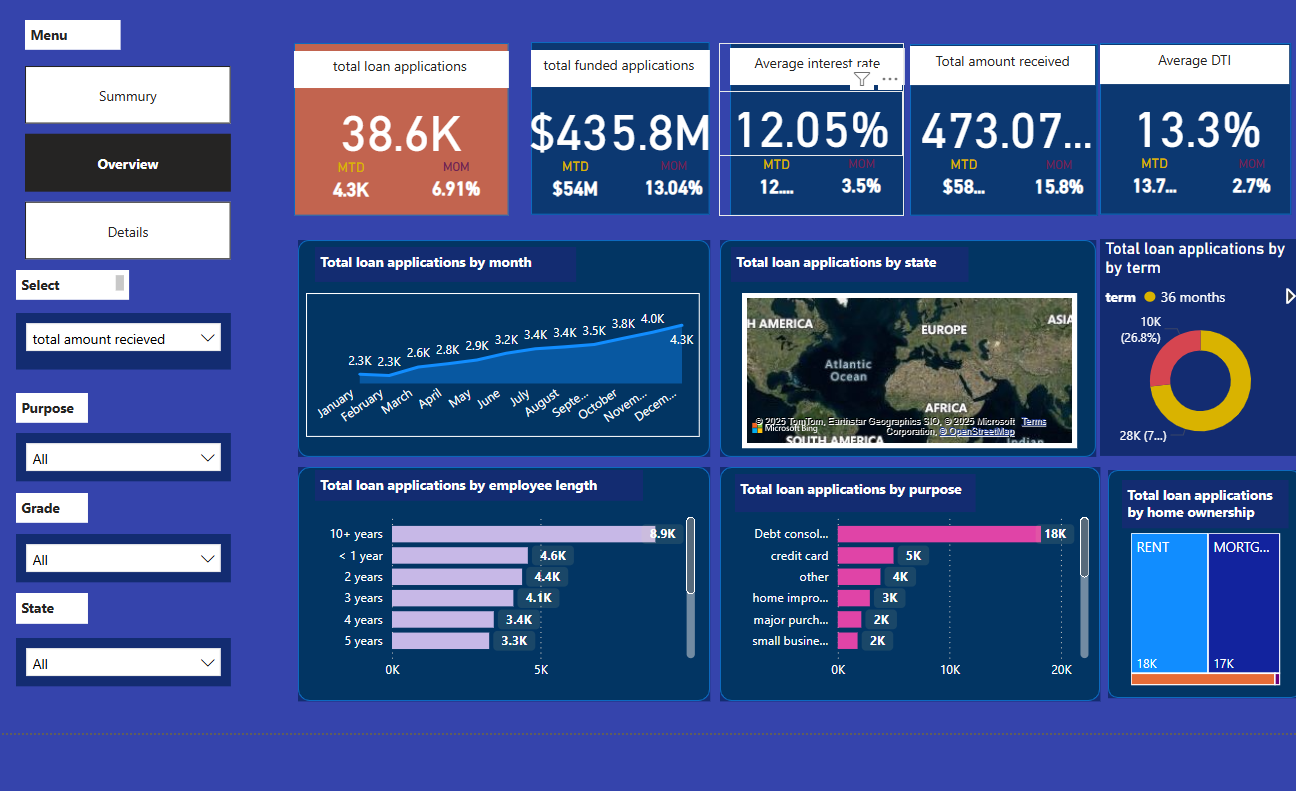

The dashboard page shown, as its layout file describes it:
{"tool":"powerbi","page":{"name":"Overview","canvas":[1280,720],"ordinal":1},"visuals":[{"type":"shape","box":[531.6,47.7,174.1,168.3],"z":0,"group":"g3"},{"type":"shape","box":[300.5,48.6,209.1,168.3],"z":0,"group":"g4"},{"type":"group","id":"g1","title":"Group 1","box":[713.9,48.6,179.9,168.3],"z":0},{"type":"shape","box":[724.1,48.6,169.6,168.3],"z":0,"group":"g1"},{"type":"shape","box":[1084.5,48.6,186.4,167.3],"z":0,"group":"g5"},{"type":"shape","box":[899.7,49.6,182.7,167.3],"z":0,"group":"g2"},{"type":"shape","box":[715,240,365.7,211.1],"z":0,"group":"g7"},{"type":"shape","box":[304.4,240.2,400.7,211.1],"z":0,"group":"g6"},{"type":"shape","box":[304.4,461,400.7,227.6],"z":0,"group":"g8"},{"type":"shape","box":[714.9,461,369.6,227.6],"z":0,"group":"g9"},{"type":"shape","box":[1092.1,464,187.7,221.8],"z":0,"group":"g10"},{"type":"group","id":"g2","title":"Group 2","box":[899.7,49.6,182.9,167.3],"z":1000},{"type":"textbox","box":[1084.5,50.6,183.7,37.9],"z":1000,"group":"g5"},{"type":"textbox","box":[899.7,51.6,180,37.9],"z":1000,"group":"g2"},{"type":"textbox","box":[724.6,53,169.6,36],"z":1000,"group":"g1"},{"type":"textbox","box":[531.6,55.5,174.1,36],"z":1000,"group":"g3"},{"type":"textbox","box":[300.5,56.4,209.1,36],"z":1000,"group":"g4"},{"type":"group","id":"g3","title":"Group 3","box":[509.7,47.7,216.9,168.3],"z":2000},{"type":"card","fields":{"Values":["3 bank_loan_data (1).AVG DTI"]},"box":[1084.6,95.2,188.7,63.2],"z":2000,"group":"g5"},{"type":"card","fields":{"Values":["3 bank_loan_data (1).Avg interest rate"]},"box":[713.9,95.6,179,63.2],"z":2000,"group":"g1"},{"type":"card","fields":{"Values":["3 bank_loan_data (1).total amount recieved"]},"box":[904.8,96.2,178,63.2],"z":2000,"group":"g2"},{"type":"card","fields":{"Values":["3 bank_loan_data (1).total funded applications"]},"box":[509.7,98.3,216.9,63.2],"z":2000,"group":"g3"},{"type":"card","fields":{"Values":["3 bank_loan_data (1).TOTAL LOAN APPLICATIONS"]},"box":[300.5,99.2,209.1,63.2],"z":2000,"group":"g4"},{"type":"textbox","box":[320.5,246.8,253.9,34],"z":2000,"group":"g6"},{"type":"textbox","box":[725.7,246.8,231.5,34],"z":2000,"group":"g7"},{"type":"textbox","box":[320.5,463.9,319,30.2],"z":2000,"group":"g8"},{"type":"textbox","box":[729.8,468.1,234.1,36.7],"z":2000,"group":"g9"},{"type":"textbox","box":[1105.9,473.7,162.4,46.7],"z":2000,"group":"g10"},{"type":"group","id":"g4","title":"Group 4","box":[300.5,48.6,209.1,168.3],"z":3000},{"type":"card","title":"MTD","fields":{"Values":["3 bank_loan_data (1).MTD AVG DTI"]},"box":[1110.1,158.6,55.1,43.8],"z":3000,"group":"g5"},{"type":"card","title":"MTD","fields":{"Values":["3 bank_loan_data (1).mtd avg"]},"box":[745.9,159.1,47.3,43.8],"z":3000,"group":"g1"},{"type":"card","title":"MTD","fields":{"Values":["3 bank_loan_data (1).MTD amount recived"]},"box":[924.8,159.6,54,43.8],"z":3000,"group":"g2"},{"type":"card","title":"MTD","fields":{"Values":["3 bank_loan_data (1).mtd funded"]},"box":[546.4,161.8,54.7,43.8],"z":3000,"group":"g3"},{"type":"card","title":"MTD","fields":{"Values":["3 bank_loan_data (1).MTD"]},"box":[326.8,162.4,58.4,43.8],"z":3000,"group":"g4"},{"type":"group","id":"g5","title":"Group 2","box":[1084.5,48.6,188.7,167.3],"z":4000},{"type":"card","title":"MOM","fields":{"Values":["3 bank_loan_data (1).mom avg"]},"box":[820.8,159.1,63.1,43.8],"z":4000,"group":"g1"},{"type":"card","title":"MOM","fields":{"Values":["3 bank_loan_data (1).MOM AVG DTI"]},"box":[1197.6,159.4,69.1,42.8],"z":4000,"group":"g5"},{"type":"card","title":"MOM","fields":{"Values":["3 bank_loan_data (1).mom amount recieved"]},"box":[1010.5,160.4,67.7,42.8],"z":4000,"group":"g2"},{"type":"card","title":"MOM","fields":{"Values":["3 bank_loan_data (1).Mom funded"]},"box":[633,161.8,72.9,43.8],"z":4000,"group":"g3"},{"type":"card","title":"MOM","fields":{"Values":["3 bank_loan_data (1).MoM LOAN APP"]},"box":[419.2,162.4,77.8,43.8],"z":4000,"group":"g4"},{"type":"card","fields":{"Values":["3 bank_loan_data (1).good loan %"]},"box":[351.1,374.5,114.8,53.5],"z":5000},{"type":"group","id":"g6","title":"Group 5","box":[304.4,240.2,400.7,211.1],"z":6000},{"type":"slicer","fields":{"Values":["3 bank_loan_data (1).purpose"]},"box":[30.2,428,209.1,46.7],"z":7000},{"type":"textbox","box":[30.2,389.1,70,29.2],"z":8000},{"type":"textbox","box":[30.2,486.3,70,29.2],"z":9000},{"type":"slicer","fields":{"Values":["3 bank_loan_data (1).grade"]},"box":[30.2,526.2,209.1,46.7],"z":10000},{"type":"slicer","fields":{"Values":["3 bank_loan_data (1).address_state"]},"box":[30.2,627.4,209.1,46.7],"z":11000},{"type":"textbox","box":[30.2,583.6,70,30.2],"z":12000},{"type":"textbox","box":[38.9,26.3,93.4,29.2],"z":13000},{"type":"areaChart","fields":{"Category":["3 bank_loan_data (1).issue_date.Variation.Date Hierarchy.Month"],"Y":["3 bank_loan_data (1).TOTAL LOAN APPLICATIONS"]},"box":[312.2,291.8,383.2,140.1],"z":14000},{"type":"slicer","fields":{"Values":["Parameter.Parameter"]},"box":[30.2,311.2,209.1,55.4],"z":15000},{"type":"textbox","box":[30.2,269.4,109.9,29.2],"z":16000},{"type":"group","id":"g7","title":"Group 5","box":[715,240,365.7,211.1],"z":17000},{"type":"filledMap","fields":{"Category":["3 bank_loan_data (1).address_state"]},"box":[736.3,291.8,325.8,150.8],"z":18000},{"type":"donutChart","title":"Total loan applications by by term","fields":{"Y":["3 bank_loan_data (1).TOTAL LOAN APPLICATIONS"],"Category":["3 bank_loan_data (1).term"]},"box":[1084.5,239.3,195.5,211.1],"z":19000},{"type":"group","id":"g8","title":"Group 5","box":[304.4,461,400.7,227.6],"z":20000},{"type":"group","id":"g9","title":"Group 5","box":[714.9,461,369.6,227.6],"z":21000},{"type":"barChart","fields":{"Y":["3 bank_loan_data (1).TOTAL LOAN APPLICATIONS"],"Category":["3 bank_loan_data (1).emp_length"]},"box":[324.9,497,370.6,179],"z":22000},{"type":"barChart","fields":{"Y":["3 bank_loan_data (1).TOTAL LOAN APPLICATIONS"],"Category":["3 bank_loan_data (1).purpose"]},"box":[729.5,497,349.2,179],"z":23000},{"type":"group","id":"g10","title":"Group 5","box":[1092.1,464,187.7,221.8],"z":24000},{"type":"treemap","fields":{"Values":["3 bank_loan_data (1).TOTAL LOAN APPLICATIONS"],"Group":["3 bank_loan_data (1).home_ownership"]},"box":[1109.8,520.4,154.7,157.6],"z":25000},{"type":"pageNavigator","box":[38.9,71,200.4,190.6],"z":26000}]}

Visuals, with their boxes on the page's 1280x720 design canvas (x1, y1, x2, y2). These are canvas units, not pixel positions in the 1296x791 screenshot, which may show the page scaled, cropped or inside an application window:
shape: detection(532, 48, 706, 216)
shape: detection(300, 49, 510, 217)
"Group 1" group: detection(714, 49, 894, 217)
shape: detection(724, 49, 894, 217)
shape: detection(1084, 49, 1271, 216)
shape: detection(900, 50, 1082, 217)
shape: detection(715, 240, 1081, 451)
shape: detection(304, 240, 705, 451)
shape: detection(304, 461, 705, 689)
shape: detection(715, 461, 1084, 689)
shape: detection(1092, 464, 1280, 686)
"Group 2" group: detection(900, 50, 1083, 217)
textbox: detection(1084, 51, 1268, 88)
textbox: detection(900, 52, 1080, 90)
textbox: detection(725, 53, 894, 89)
textbox: detection(532, 56, 706, 92)
textbox: detection(300, 56, 510, 92)
"Group 3" group: detection(510, 48, 727, 216)
card - 3 bank_loan_data (1).AVG DTI: detection(1085, 95, 1273, 158)
card - 3 bank_loan_data (1).Avg interest rate: detection(714, 96, 893, 159)
card - 3 bank_loan_data (1).total amount recieved: detection(905, 96, 1083, 159)
card - 3 bank_loan_data (1).total funded applications: detection(510, 98, 727, 162)
card - 3 bank_loan_data (1).TOTAL LOAN APPLICATIONS: detection(300, 99, 510, 162)
textbox: detection(320, 247, 574, 281)
textbox: detection(726, 247, 957, 281)
textbox: detection(320, 464, 640, 494)
textbox: detection(730, 468, 964, 505)
textbox: detection(1106, 474, 1268, 520)
"Group 4" group: detection(300, 49, 510, 217)
"MTD" card: detection(1110, 159, 1165, 202)
"MTD" card: detection(746, 159, 793, 203)
"MTD" card: detection(925, 160, 979, 203)
"MTD" card: detection(546, 162, 601, 206)
"MTD" card: detection(327, 162, 385, 206)
"Group 2" group: detection(1084, 49, 1273, 216)
"MOM" card: detection(821, 159, 884, 203)
"MOM" card: detection(1198, 159, 1267, 202)
"MOM" card: detection(1010, 160, 1078, 203)
"MOM" card: detection(633, 162, 706, 206)
"MOM" card: detection(419, 162, 497, 206)
card - 3 bank_loan_data (1).good loan %: detection(351, 374, 466, 428)
"Group 5" group: detection(304, 240, 705, 451)
slicer - 3 bank_loan_data (1).purpose: detection(30, 428, 239, 475)
textbox: detection(30, 389, 100, 418)
textbox: detection(30, 486, 100, 516)
slicer - 3 bank_loan_data (1).grade: detection(30, 526, 239, 573)
slicer - 3 bank_loan_data (1).address_state: detection(30, 627, 239, 674)
textbox: detection(30, 584, 100, 614)
textbox: detection(39, 26, 132, 56)
areaChart - 3 bank_loan_data (1).issue_date.Variation.Date Hierarchy.Month x 3 bank_loan_data (1).TOTAL LOAN APPLICATIONS: detection(312, 292, 695, 432)
slicer - Parameter.Parameter: detection(30, 311, 239, 367)
textbox: detection(30, 269, 140, 299)
"Group 5" group: detection(715, 240, 1081, 451)
filledMap - 3 bank_loan_data (1).address_state: detection(736, 292, 1062, 443)
"Total loan applications by by term" donutChart: detection(1084, 239, 1280, 450)
"Group 5" group: detection(304, 461, 705, 689)
"Group 5" group: detection(715, 461, 1084, 689)
barChart - 3 bank_loan_data (1).TOTAL LOAN APPLICATIONS x 3 bank_loan_data (1).emp_length: detection(325, 497, 696, 676)
barChart - 3 bank_loan_data (1).TOTAL LOAN APPLICATIONS x 3 bank_loan_data (1).purpose: detection(730, 497, 1079, 676)
"Group 5" group: detection(1092, 464, 1280, 686)
treemap - 3 bank_loan_data (1).TOTAL LOAN APPLICATIONS x 3 bank_loan_data (1).home_ownership: detection(1110, 520, 1264, 678)
pageNavigator: detection(39, 71, 239, 262)
